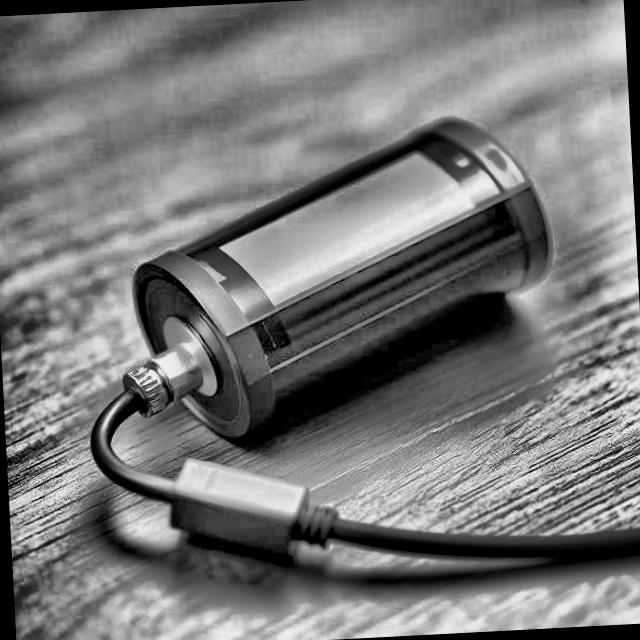Battery: (130, 97, 566, 454)
Cable: (86, 366, 640, 586)
